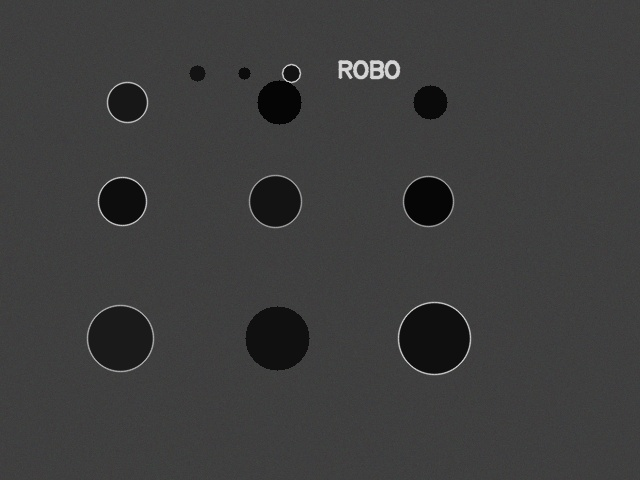hole: (398, 302, 470, 374), (87, 305, 153, 371), (245, 306, 309, 370), (249, 175, 301, 227), (403, 176, 453, 226), (98, 177, 146, 225), (257, 80, 301, 124), (107, 82, 147, 122), (413, 85, 447, 119), (282, 64, 300, 82), (189, 65, 205, 81), (238, 67, 250, 79)
